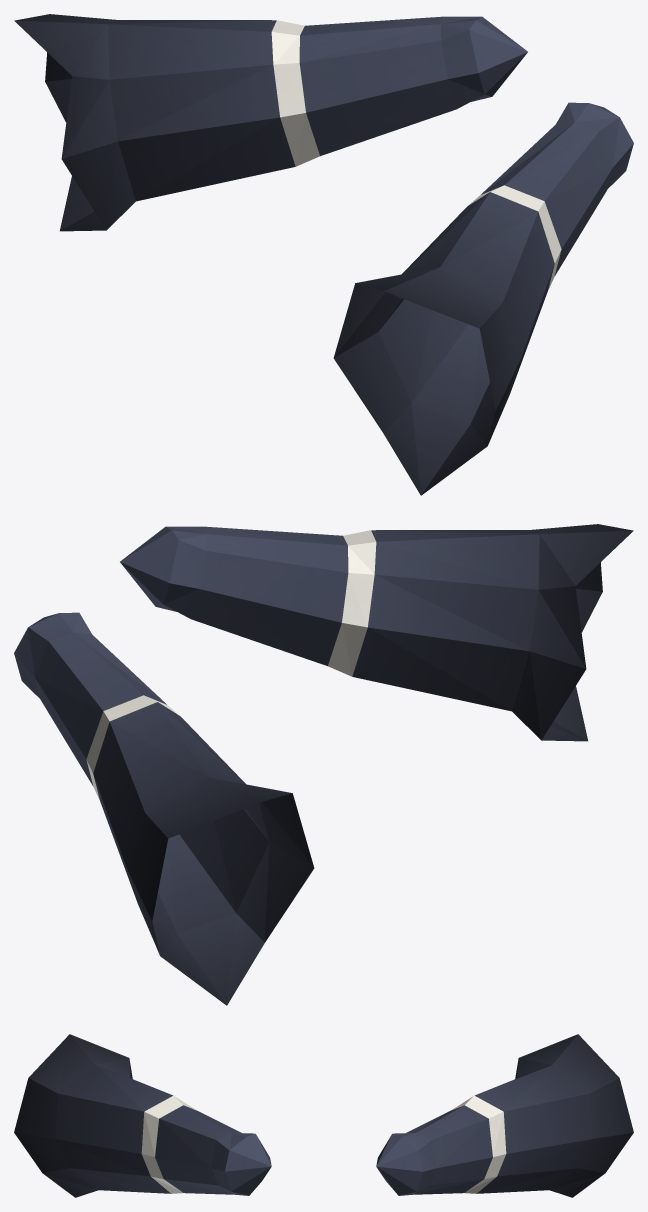
File: yuarms.obj
3 views of the same model, one above another, from view 1: azimuth 30°, elevation 25°; view 2: azimuth 150°, elevation 25°; view 3: azimuth 270°, elevation 25° (orthographic). The views are drawn at different scales.
Visible parts, largest first — view 1: yuarmR; view 2: yuarmR; view 3: yuarmR.
Part boxes in pixels (left/top/right/bottom): yuarmR: left=14, top=14, right=633, bottom=495; yuarmR: left=14, top=524, right=633, bottom=1005; yuarmR: left=14, top=1034, right=633, bottom=1197.
Size of the model in its own units: 2.03 by 1.21 by 4.29.
